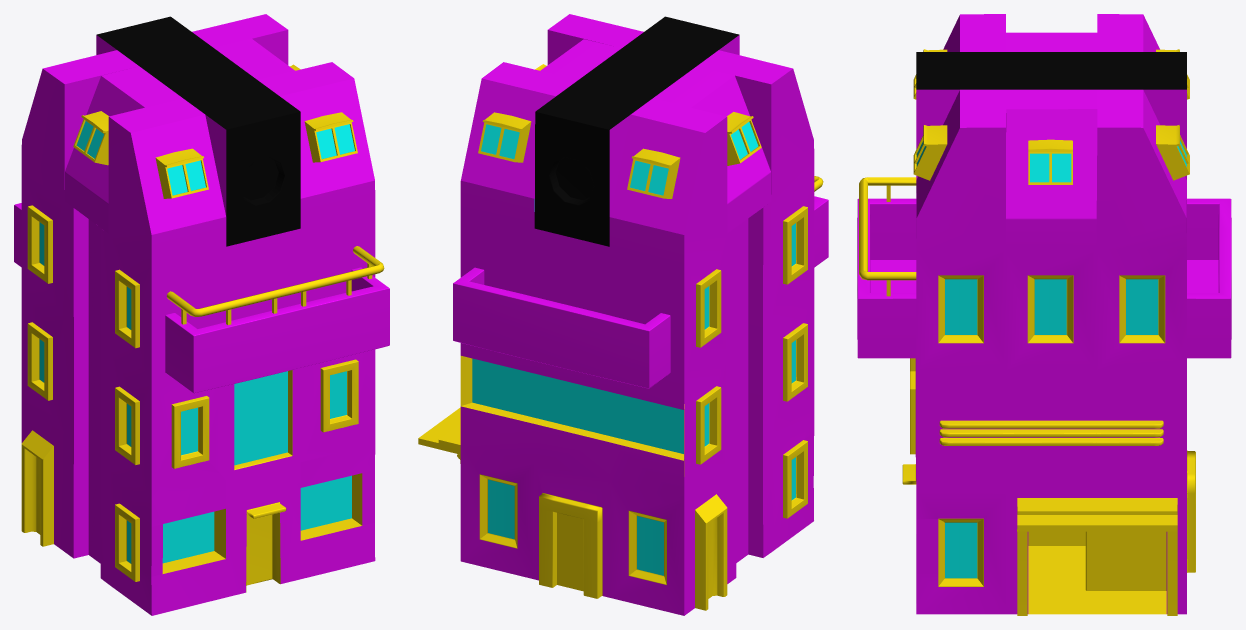
3 renders of one model, left to right at view 1: azimuth 30°, elevation 25°; view 2: azimuth 150°, elevation 25°; view 3: azimuth 270°, elevation 25°, orthographic. The views are drawn at different scales.
Visible parts, largest first — view 1: Batiment_03, Balcon_B_03; view 2: Batiment_03, Balcon_B_03_02, Front_Porch_B_03, Balcon_B_03; view 3: Batiment_03, Balcon_B_03, Balcon_B_03_02, Front_Porch_B_03.
Boxes of the visible parts, bbox=[...] form: Batiment_03: bbox=[21, 14, 375, 615]; Balcon_B_03: bbox=[165, 246, 389, 393]; Batiment_03: bbox=[457, 14, 814, 615]; Balcon_B_03_02: bbox=[453, 267, 670, 388]; Front_Porch_B_03: bbox=[418, 407, 460, 454]; Balcon_B_03: bbox=[814, 176, 828, 267]; Batiment_03: bbox=[902, 14, 1195, 615]; Balcon_B_03: bbox=[857, 177, 916, 358]; Balcon_B_03_02: bbox=[1187, 198, 1231, 358]; Front_Porch_B_03: bbox=[1017, 498, 1177, 531].
Size of the model in its own units: 756 by 1201 by 836.
